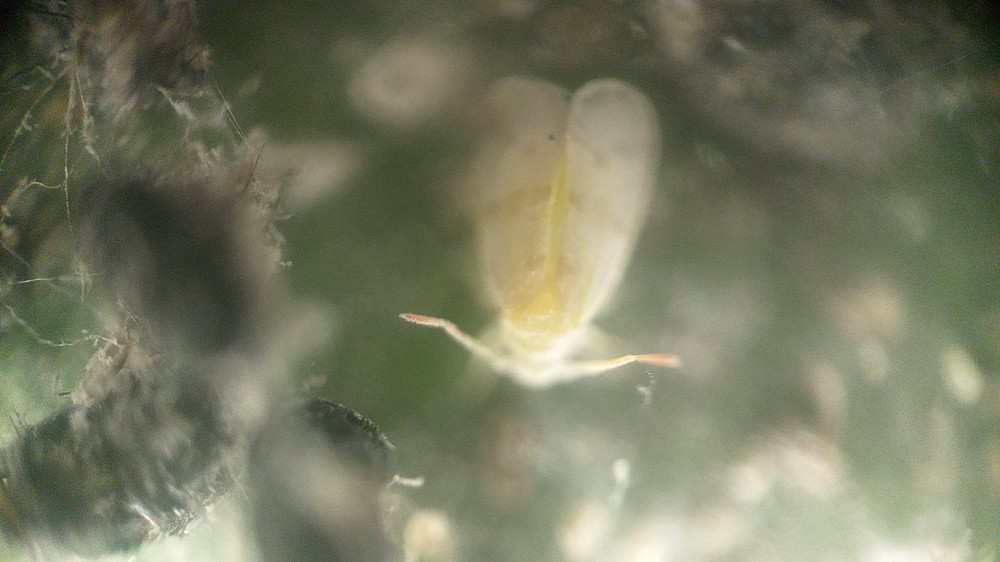Mosca Blanca: (401, 66, 703, 437)
